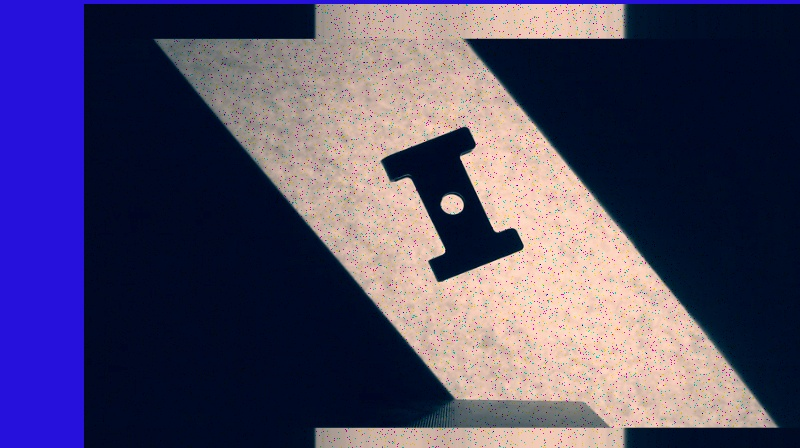O002: (378, 124, 525, 283)
